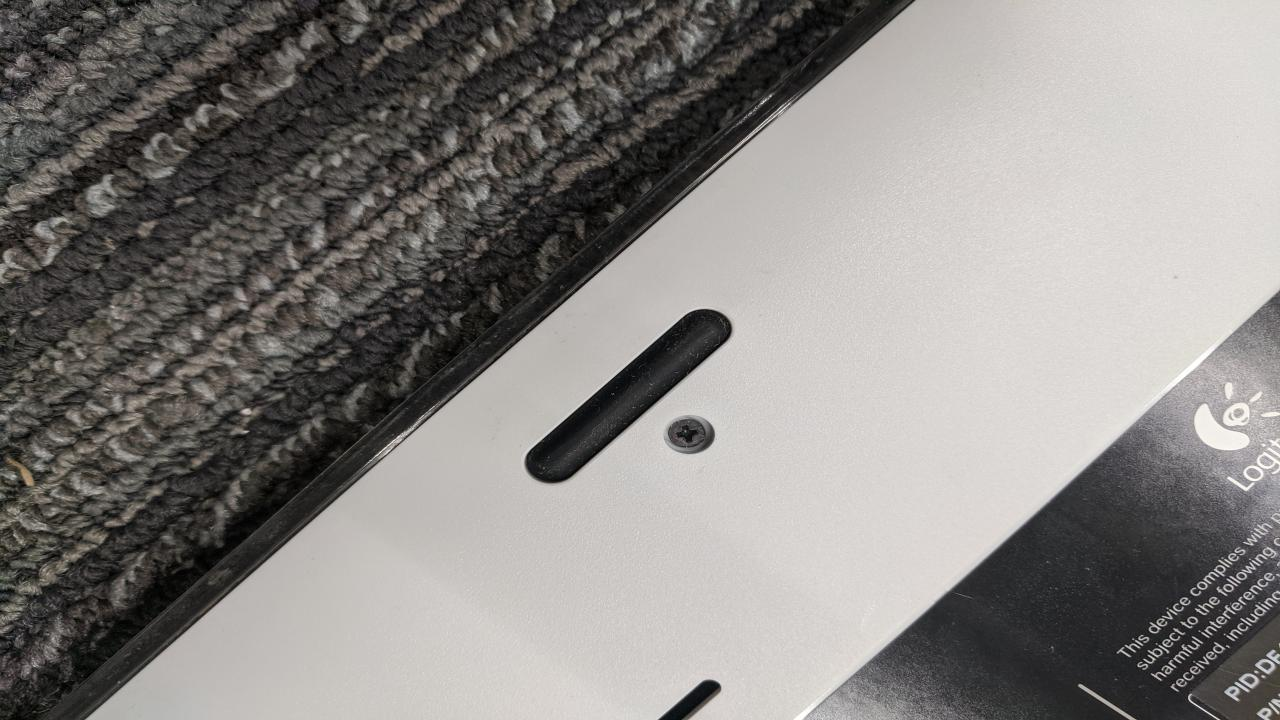CRS: (669, 416, 712, 451)
